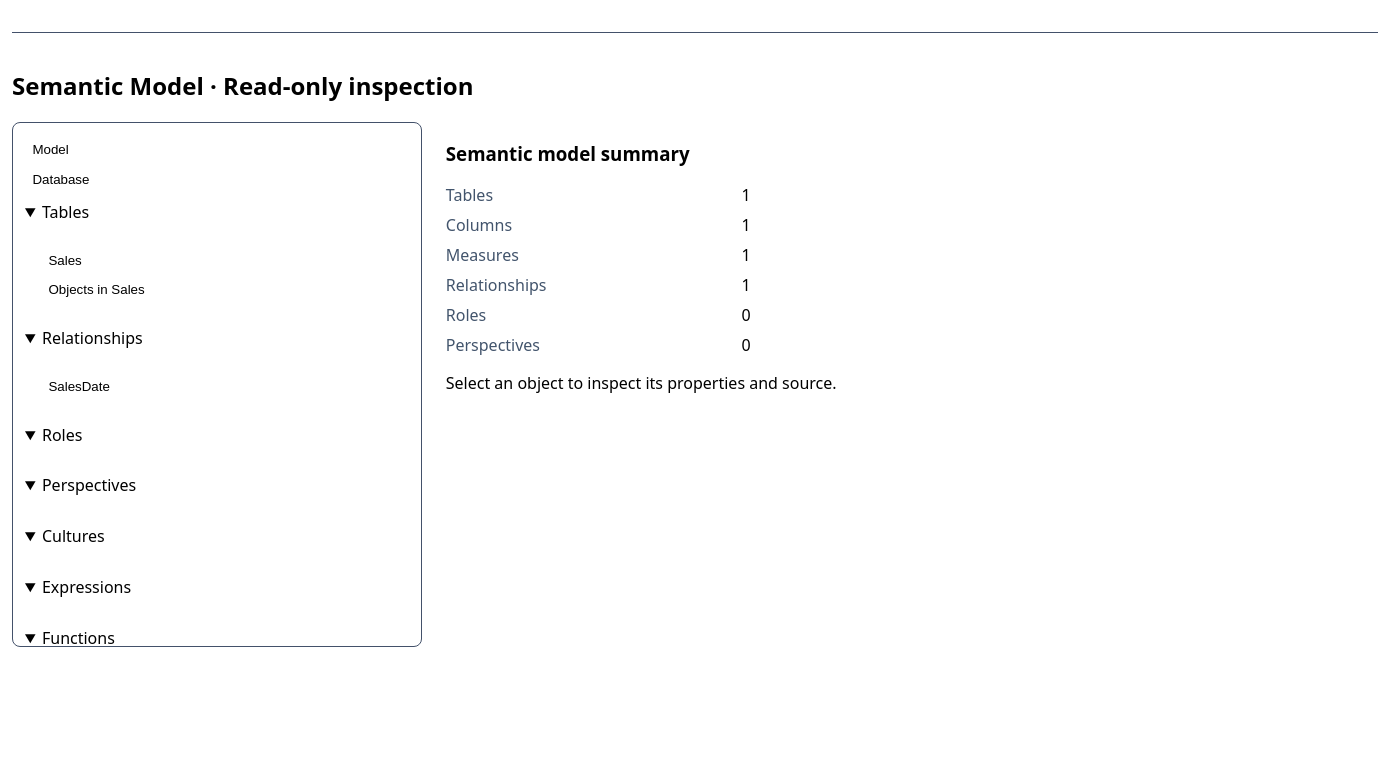
semantic inspection › displays an opaque measure expression and metadata
Click the button "Objects in Sales" at coordinates (80, 290), box 41,275 -> 409,305
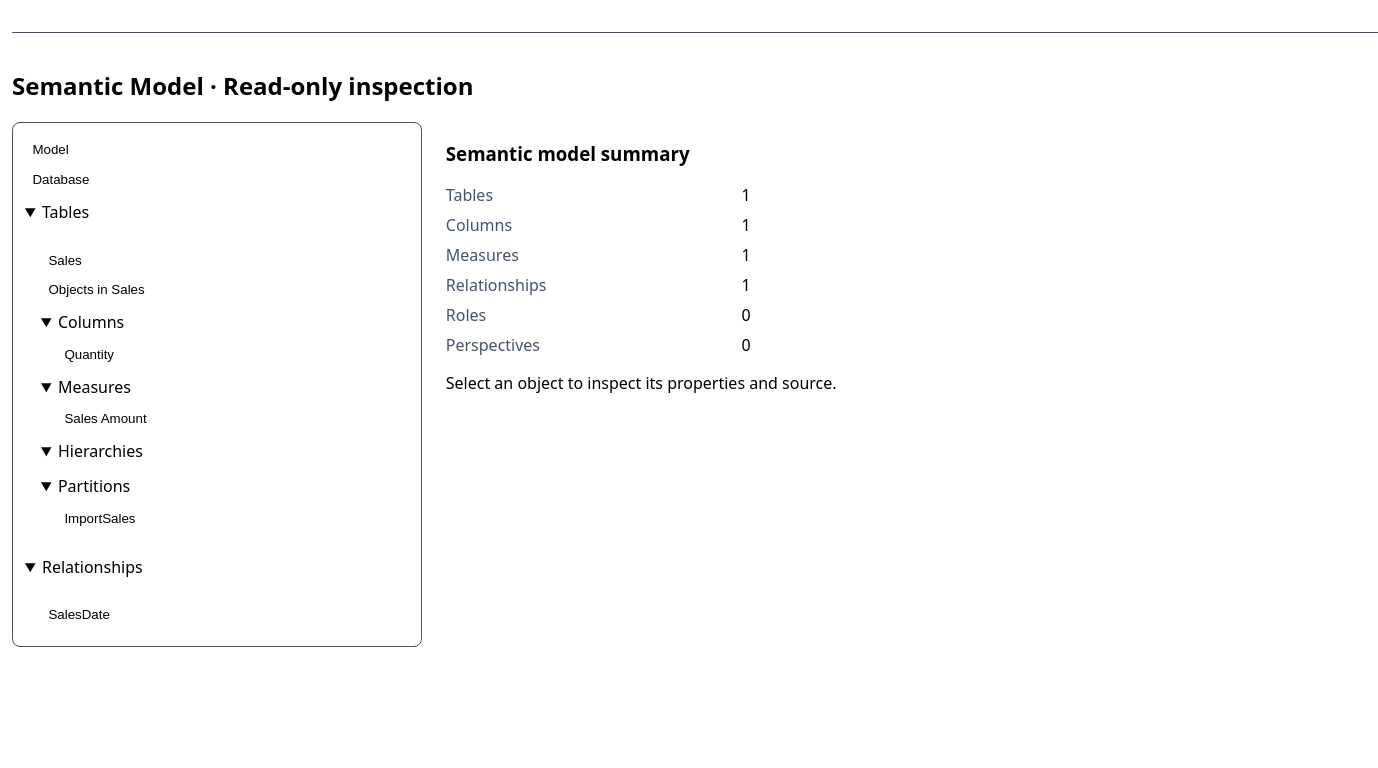
Click the button with aria-label "Measure: Sales Amount" at coordinates (106, 419), box 57,404 -> 409,434
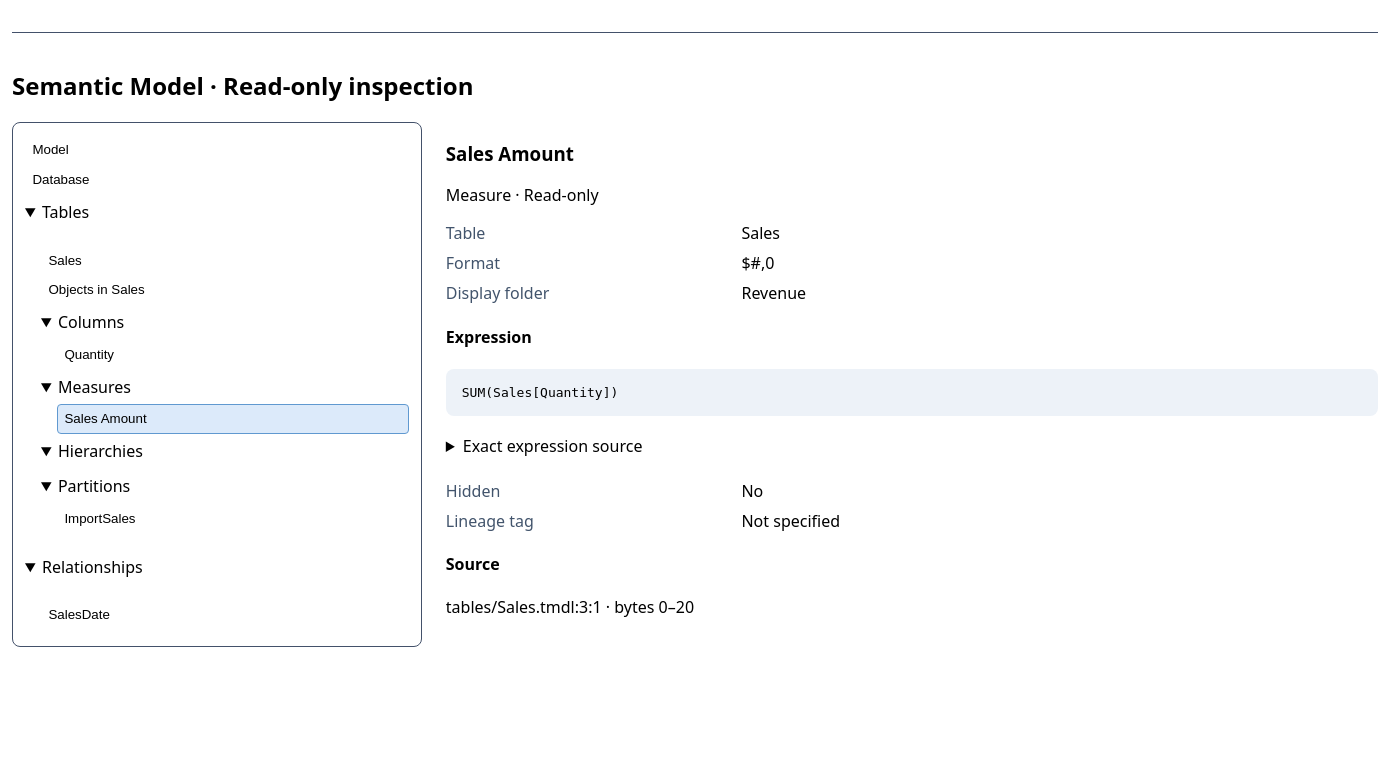
Result: the text "$#,0" is shown at 742,252 -> 774,274
Result: the text "Revenue" is shown at 742,282 -> 806,304
